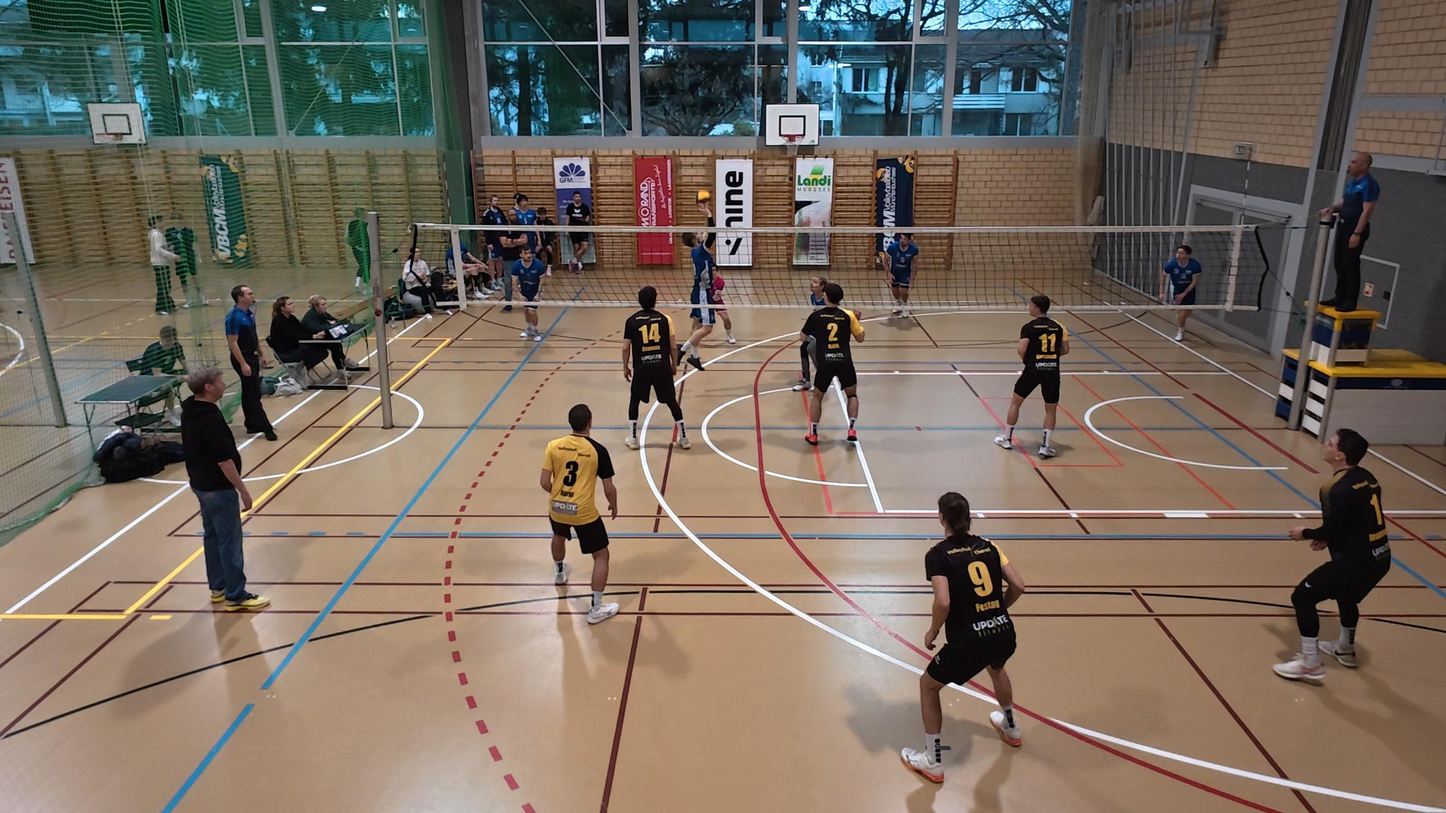Player: (901, 492, 1024, 783), (1274, 427, 1392, 682), (541, 405, 619, 624), (994, 294, 1068, 457), (620, 285, 689, 450), (801, 286, 862, 446), (1160, 243, 1203, 344), (695, 263, 744, 345), (511, 244, 549, 341), (886, 232, 920, 322)
Set: (682, 197, 730, 374)
ball: (696, 187, 712, 204)
